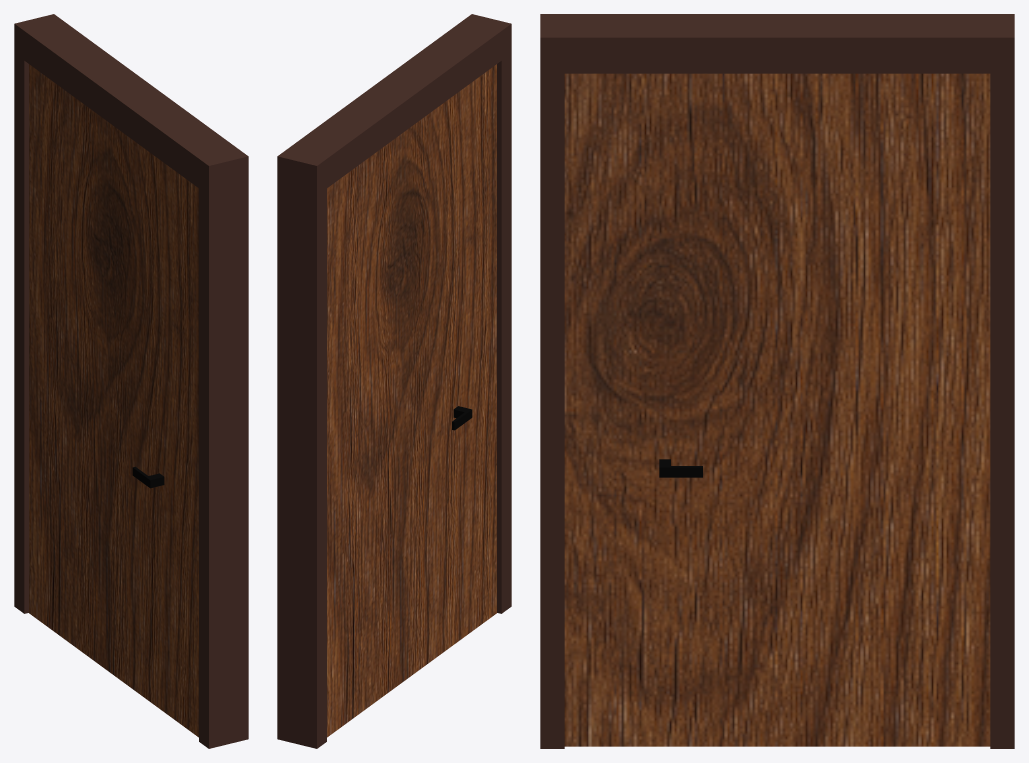
File: door1 1.fbx
3 views of the same model, side by side, from view 1: azimuth 30°, elevation 25°; view 2: azimuth 150°, elevation 25°; view 3: azimuth 270°, elevation 25° (orthographic). The views are drawn at different scales.
Visible parts, largest first — view 1: Cube.001, Cube; view 2: Cube.001, Cube; view 3: Cube.001, Cube.
Boxes of the visible parts, left/top/right/bottom form: Cube.001: left=29, top=64, right=198, bottom=737; Cube: left=14, top=14, right=248, bottom=748; Cube.001: left=327, top=64, right=496, bottom=737; Cube: left=277, top=14, right=511, bottom=748; Cube.001: left=564, top=73, right=990, bottom=746; Cube: left=540, top=14, right=1014, bottom=748.
Bounding box in the file's own units: 39.18 × 369 × 223.
